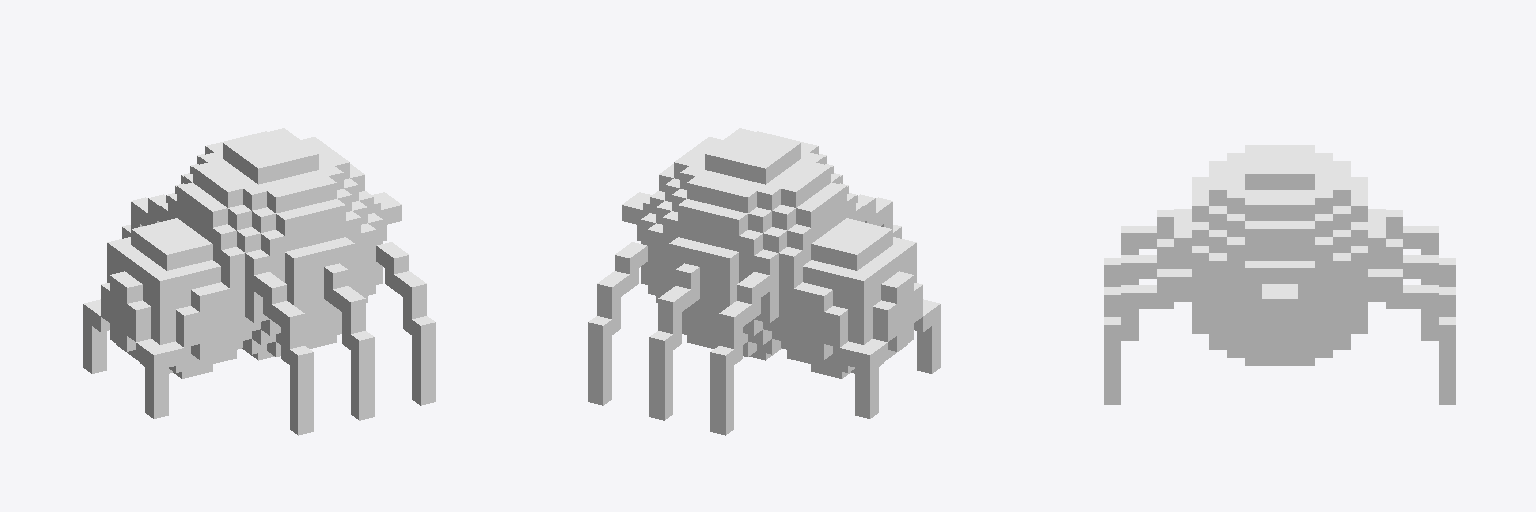
Rendered from spider-0.obj.
3 renders of one model, left to right at view 1: azimuth 30°, elevation 25°; view 2: azimuth 150°, elevation 25°; view 3: azimuth 270°, elevation 25°, orthographic.
Visible parts, largest first — view 1: object 1; view 2: object 1; view 3: object 1.
Boxes of the visible parts, <box> form: object 1: <box>83,128,435,435</box>; object 1: <box>588,128,940,435</box>; object 1: <box>1104,145,1455,404</box>.
Bounding box in the file's own units: 1.8 × 1.3 × 2.